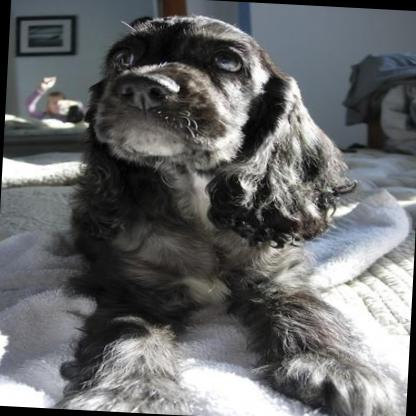cocker_spaniel: (49, 6, 410, 416)
